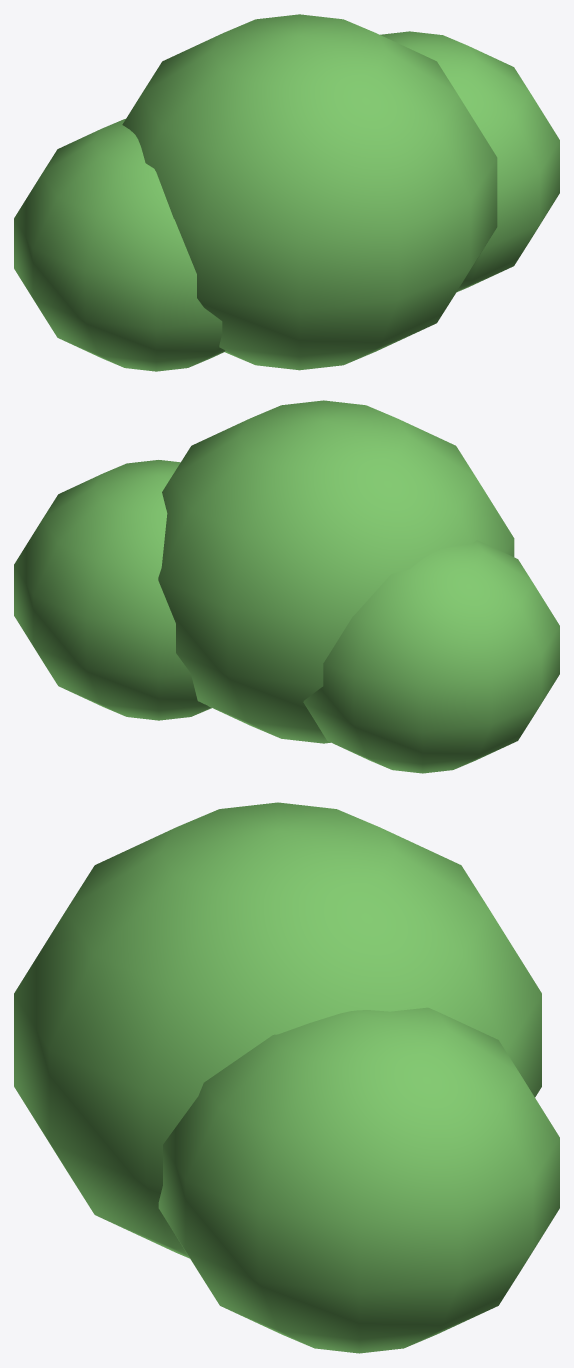
Rendered from bush.glb.
3 views of the same model, one above another, from view 1: azimuth 30°, elevation 25°; view 2: azimuth 150°, elevation 25°; view 3: azimuth 270°, elevation 25° (orthographic). The views are drawn at different scales.
Parts seen in each view (by area): view 1: Blob0, Blob2, Blob1; view 2: Blob0, Blob2, Blob1; view 3: Blob0, Blob1.
Boxes of the visible parts, x1=… form: Blob0: x1=122, y1=14, x2=497, y2=370; Blob2: x1=14, y1=119, x2=225, y2=371; Blob1: x1=380, y1=31, x2=559, y2=291; Blob0: x1=158, y1=400, x2=514, y2=743; Blob2: x1=303, y1=540, x2=559, y2=773; Blob1: x1=14, y1=460, x2=211, y2=720; Blob0: x1=14, y1=802, x2=541, y2=1258; Blob1: x1=158, y1=1007, x2=559, y2=1353.
Size of the model in its own units: 1.47 by 0.85 by 1.01.
